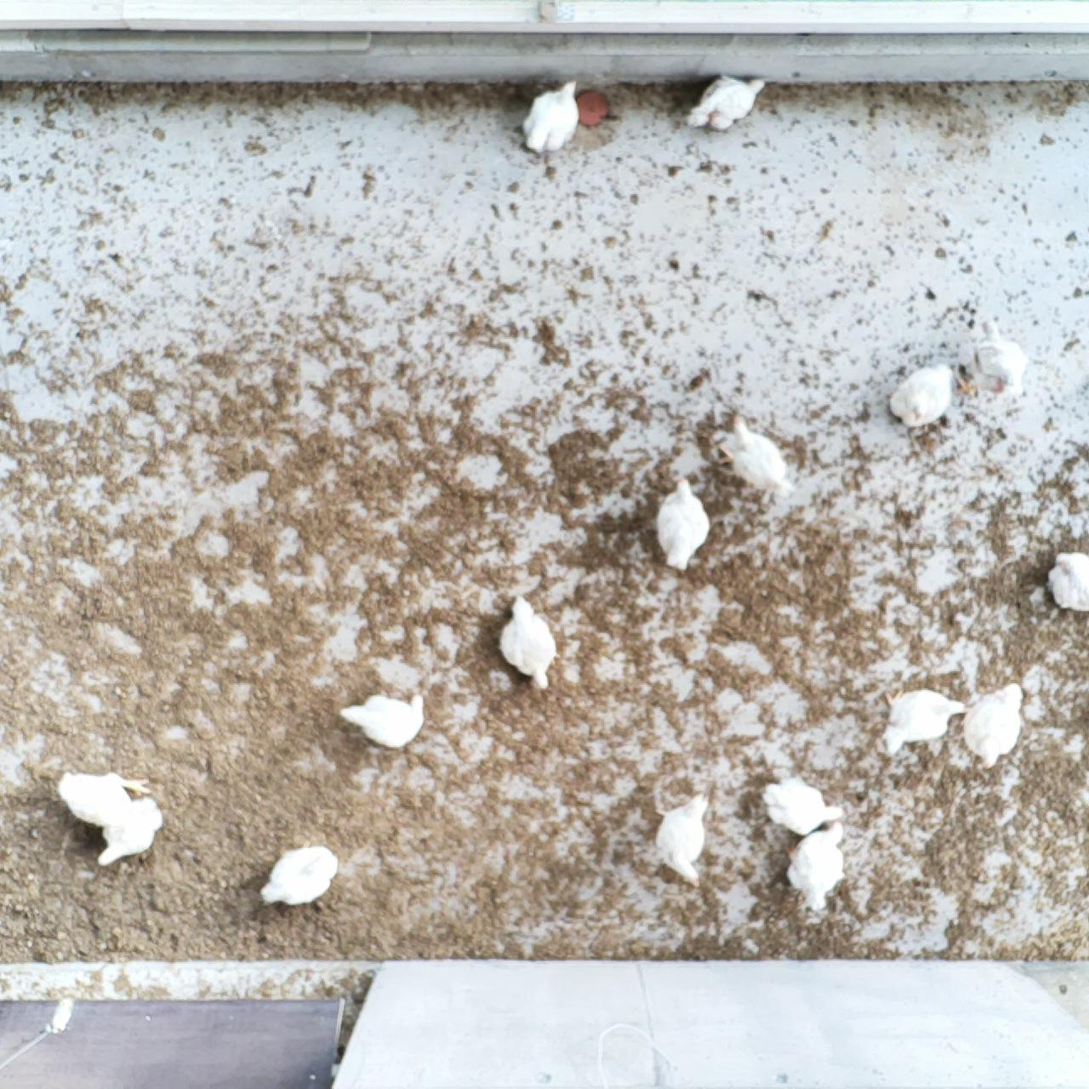chicken: (708, 406, 796, 502), (953, 312, 1028, 406), (492, 592, 558, 696), (879, 684, 970, 758), (56, 767, 152, 832), (652, 476, 714, 576), (651, 789, 711, 891), (338, 686, 427, 753), (93, 793, 169, 869), (753, 775, 848, 835), (785, 821, 848, 911), (262, 840, 344, 909), (963, 679, 1028, 766), (518, 76, 583, 160), (684, 71, 770, 133), (886, 364, 956, 438), (1045, 546, 1089, 616)
